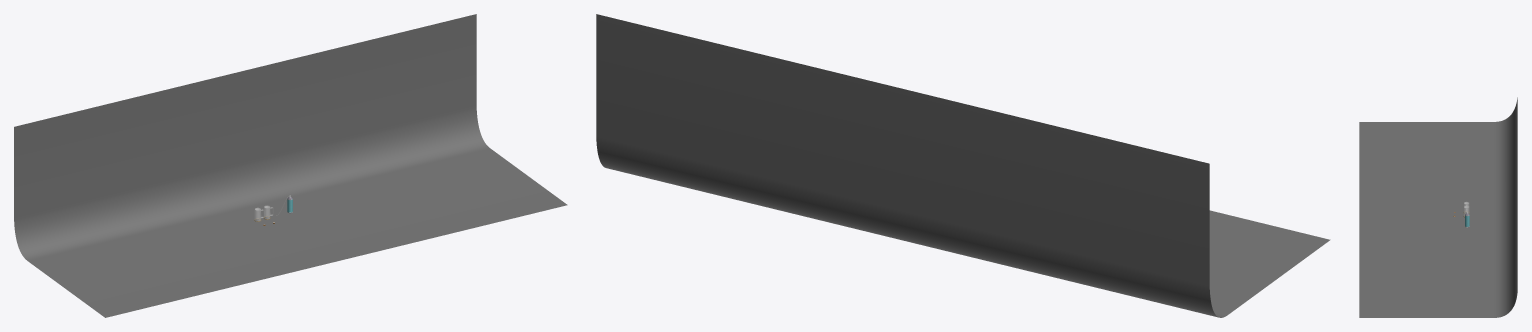
3 views of the same model, side by side, from view 1: azimuth 30°, elevation 25°; view 2: azimuth 150°, elevation 25°; view 3: azimuth 270°, elevation 25° (orthographic). The views are drawn at different scales.
Parts seen in each view (by area): view 1: Plane; view 2: Plane; view 3: Plane.
Part boxes in pixels (x1,y1,x2,y2): Plane: [14, 14, 567, 317]; Plane: [596, 14, 1330, 317]; Plane: [1359, 97, 1517, 317].
Bounding box in the file's own units: 68.61 × 17.64 × 23.46.
6 materials, 2 textured.
